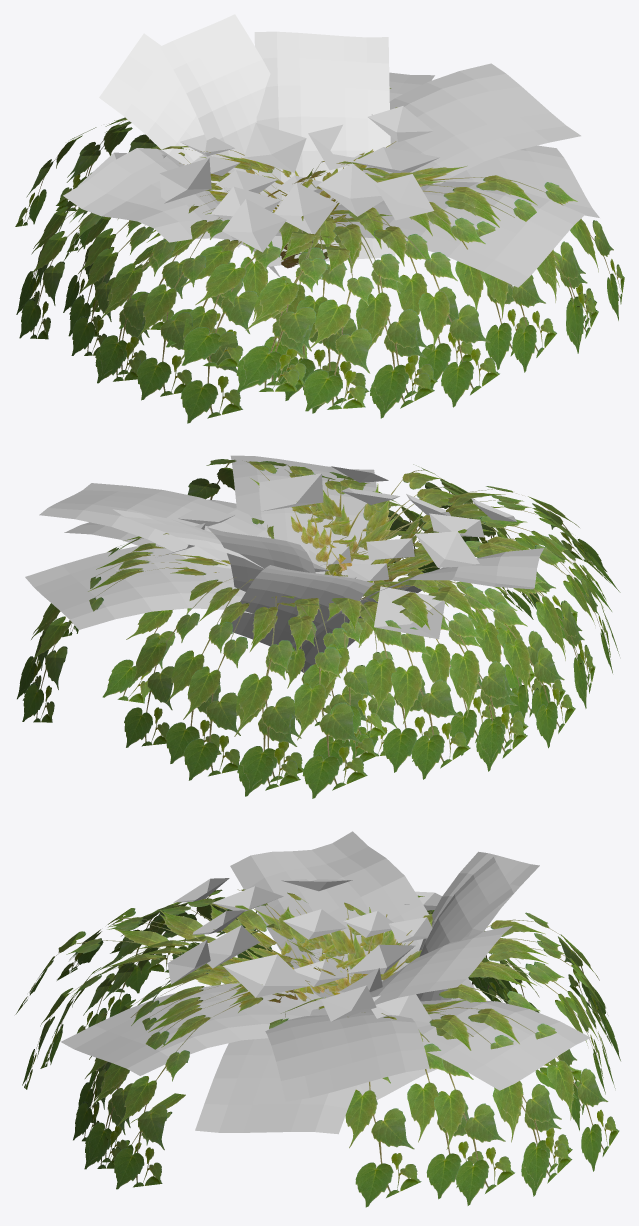
File: FlowerGroup02.fbx
The picture shows the model from 3 angles, top to bottom: view 1: azimuth 30°, elevation 25°; view 2: azimuth 150°, elevation 25°; view 3: azimuth 270°, elevation 25°; orthographic projection. The views are drawn at different scales.
Parts seen in each view (by area): view 1: FlowerGroup02; view 2: FlowerGroup02; view 3: FlowerGroup02.
Boxes of the visible parts, x1=… form: FlowerGroup02: x1=15, y1=14, x2=624, y2=423; FlowerGroup02: x1=17, y1=455, x2=620, y2=798; FlowerGroup02: x1=15, y1=831, x2=620, y2=1207.
Size of the model in its own units: 115 by 46.24 by 118.
